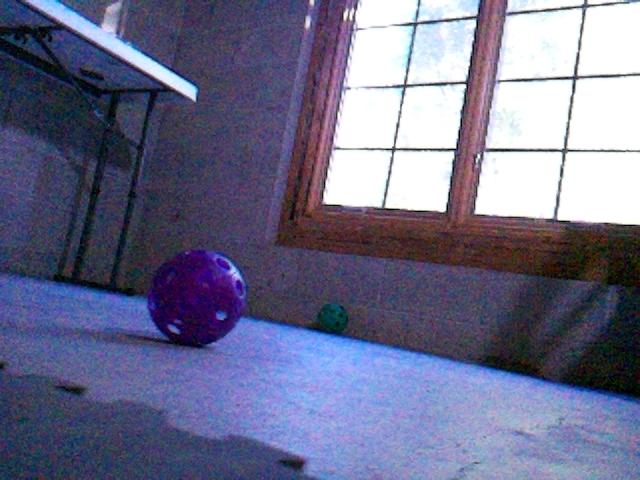Green: (316, 303, 348, 334)
Purple: (144, 246, 249, 348)
